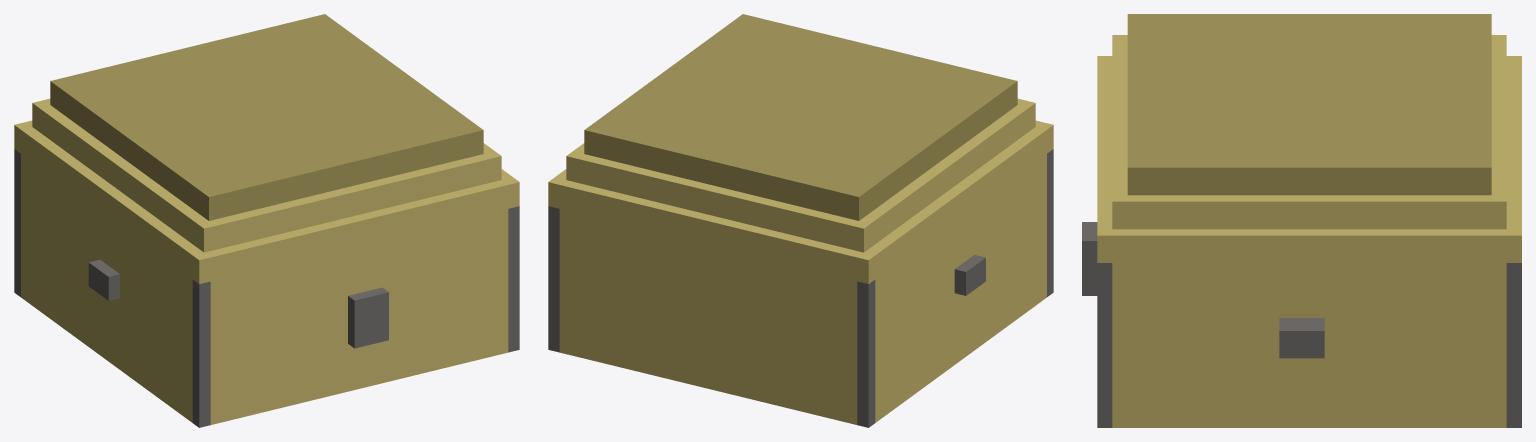
Rendered from cofre_jefe_01.glb.
3 views of the same model, side by side, from view 1: azimuth 30°, elevation 25°; view 2: azimuth 150°, elevation 25°; view 3: azimuth 270°, elevation 25° (orthographic). The views are drawn at different scales.
Visible parts, largest first — view 1: cofre_jefe; view 2: cofre_jefe; view 3: cofre_jefe.
Part boxes in pixels (bbox=[...]): cofre_jefe: bbox=[14, 14, 519, 427]; cofre_jefe: bbox=[548, 14, 1053, 427]; cofre_jefe: bbox=[1082, 14, 1521, 427].
Bounding box in the file's own units: 2.21 × 1.29 × 2.07.
